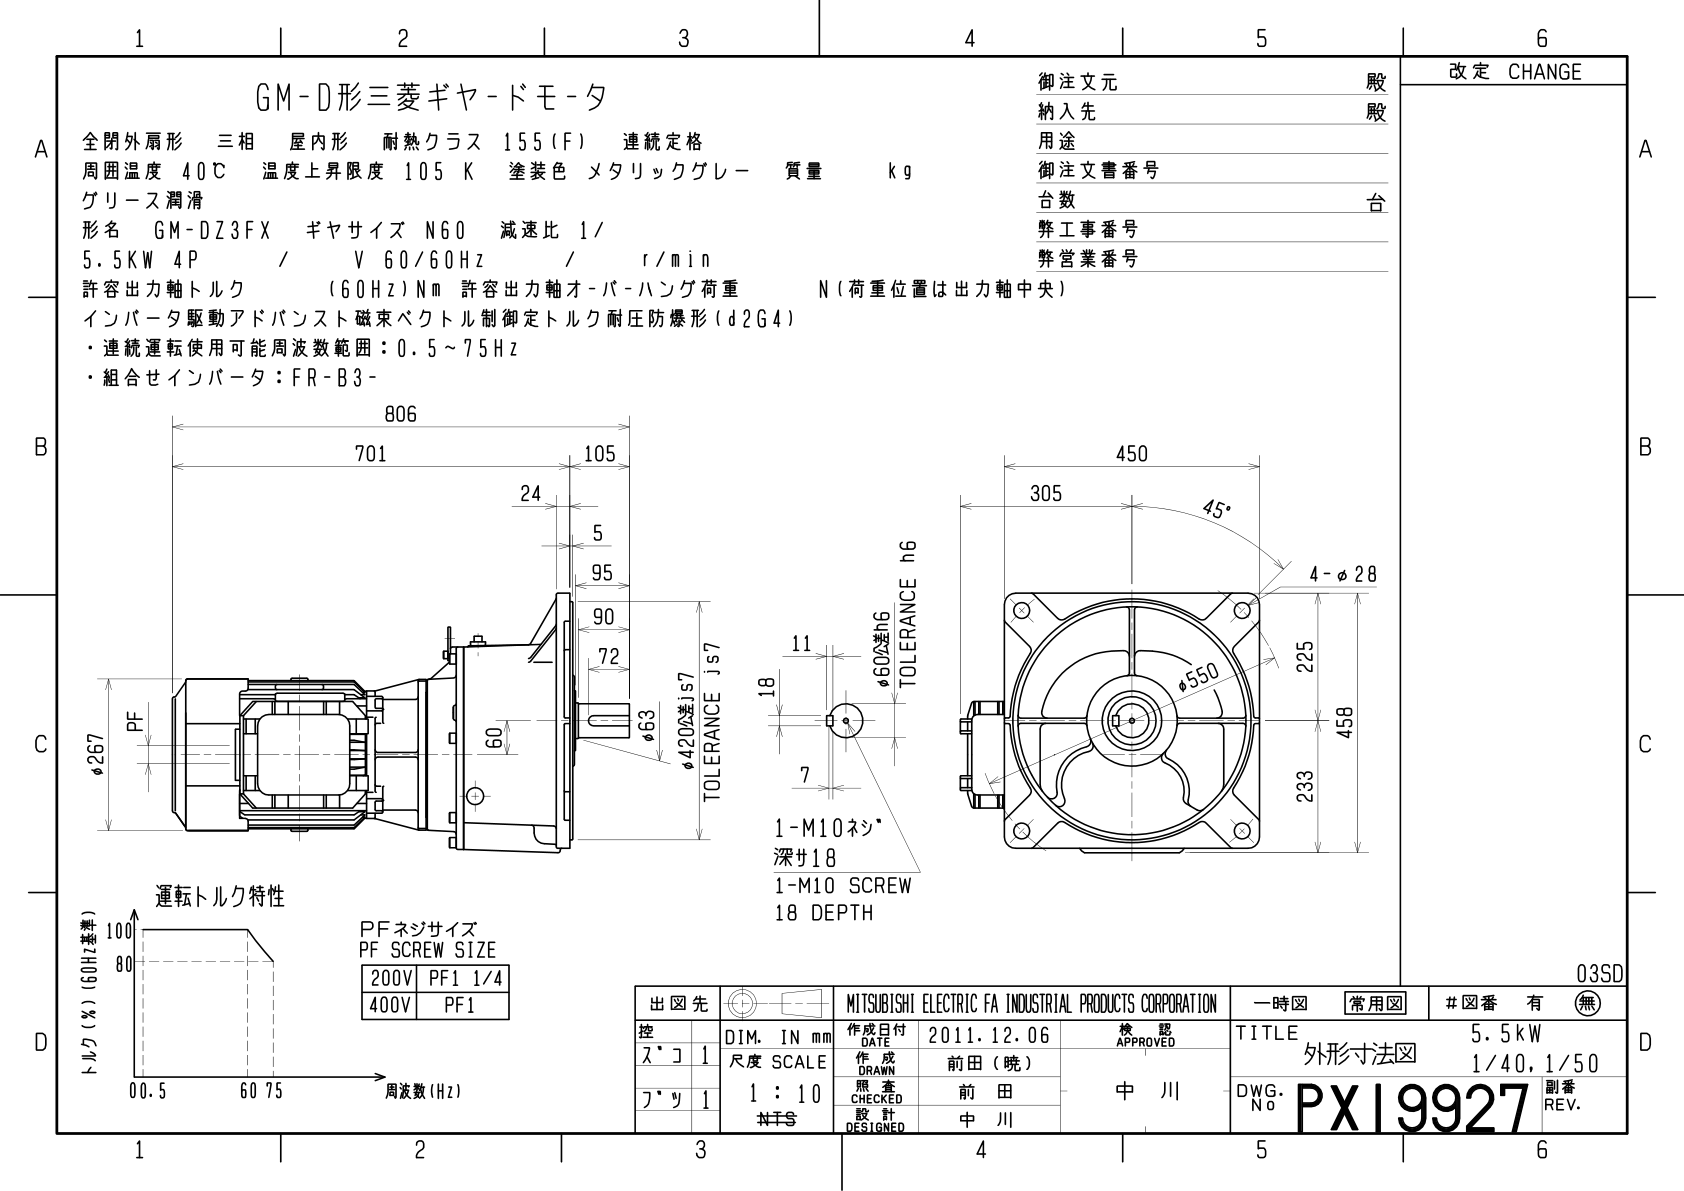GM_D_制御屋内_三相_フランジ: (70, 402, 1392, 967)
